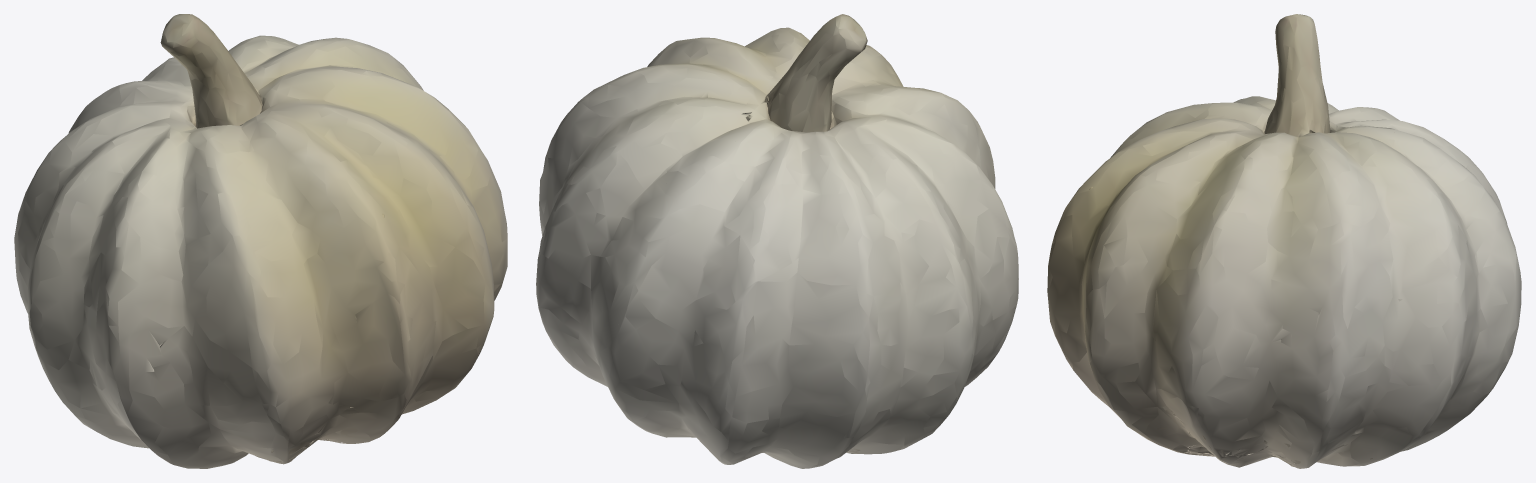
File: 0002_mask_003_toy_white_pumpkin.glb
3 views of the same model, side by side, from view 1: azimuth 30°, elevation 25°; view 2: azimuth 150°, elevation 25°; view 3: azimuth 270°, elevation 25° (orthographic). The views are drawn at different scales.
Parts seen in each view (by area): view 1: mask_003_object; view 2: mask_003_object; view 3: mask_003_object.
Part boxes in pixels (<box>): mask_003_object: <box>14,14,507,468</box>; mask_003_object: <box>536,14,1018,468</box>; mask_003_object: <box>1047,14,1521,468</box>.
Size of the model in its own units: 0.1605 by 0.1568 by 0.1647.
